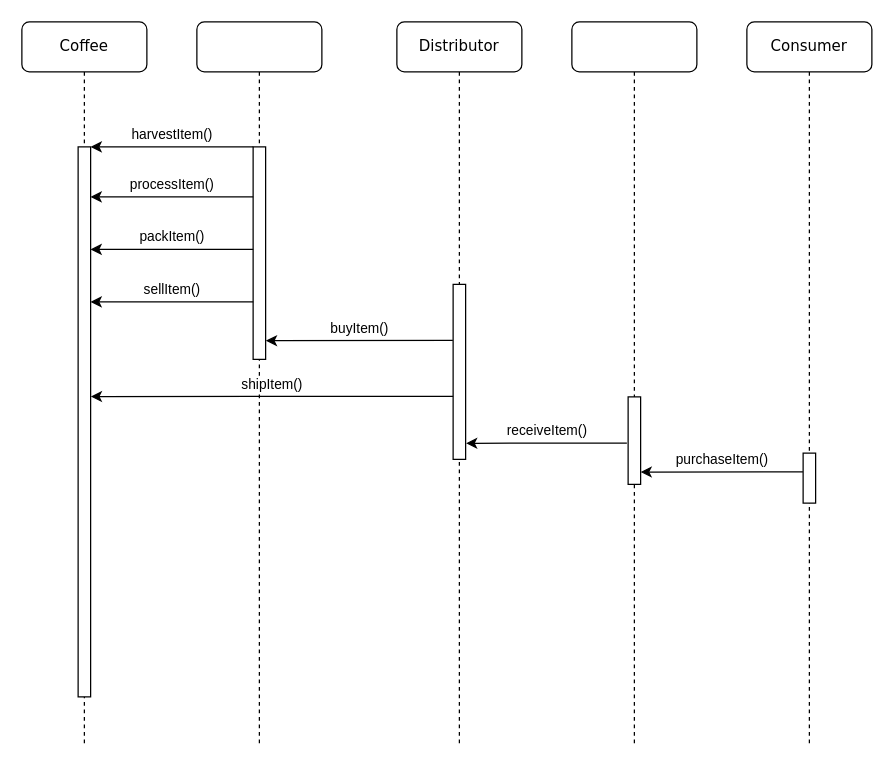
Image size: 894x769. Some labels were removed from this diagram. The centre of each missing label's shape, as x and y in pixels:
Farmer: point 259,384
Retailer: point 634,384
